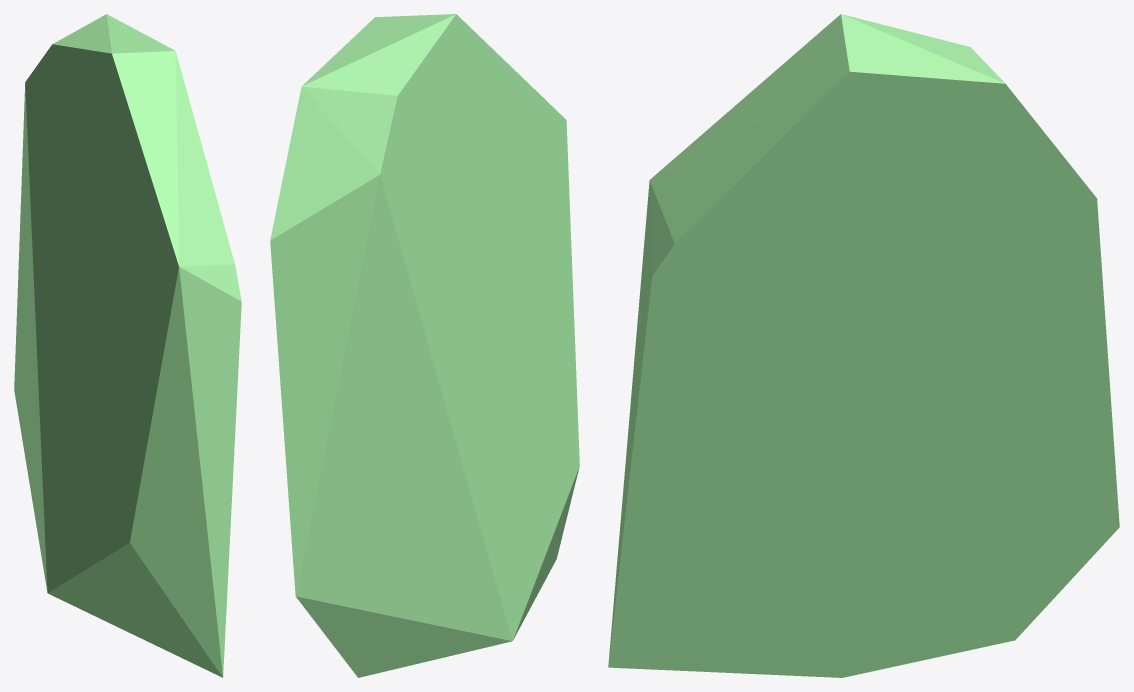
The model's file is UMIRobot_UMIRobot_link_5_convex_coll_47.dae.
3 renders of one model, left to right at view 1: azimuth 30°, elevation 25°; view 2: azimuth 150°, elevation 25°; view 3: azimuth 270°, elevation 25°, orthographic. The views are drawn at different scales.
Parts seen in each view (by area): view 1: node; view 2: node; view 3: node.
Boxes of the visible parts, x1,y1,x2,y2 form: node: (14,14,241,677); node: (270,14,579,677); node: (608,14,1119,677).
Size of the model in its own units: 0.00343 by 0.0149 by 0.0105.
